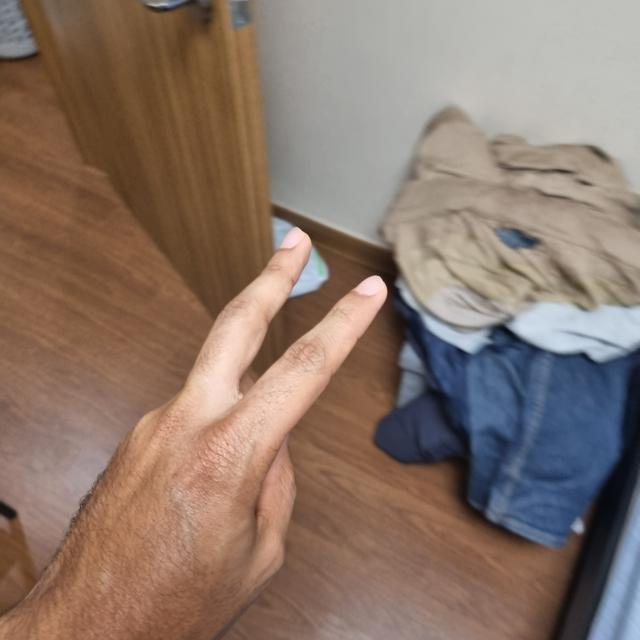Scissors: (5, 233, 391, 639)
